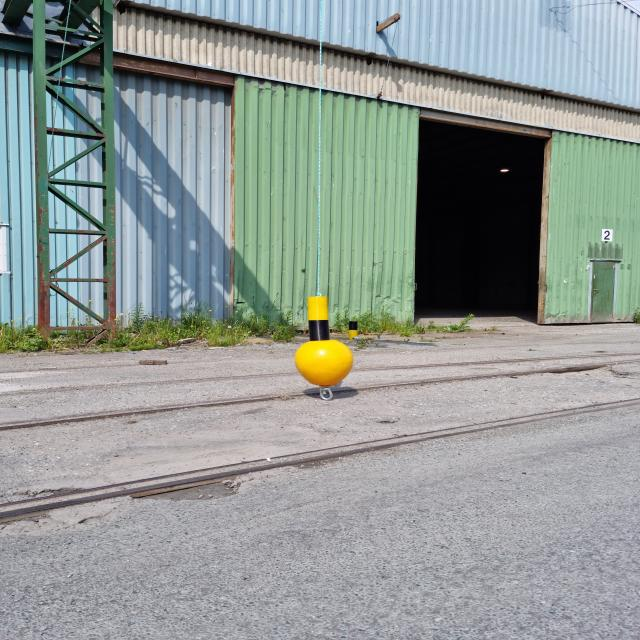west: (298, 296, 354, 384)
